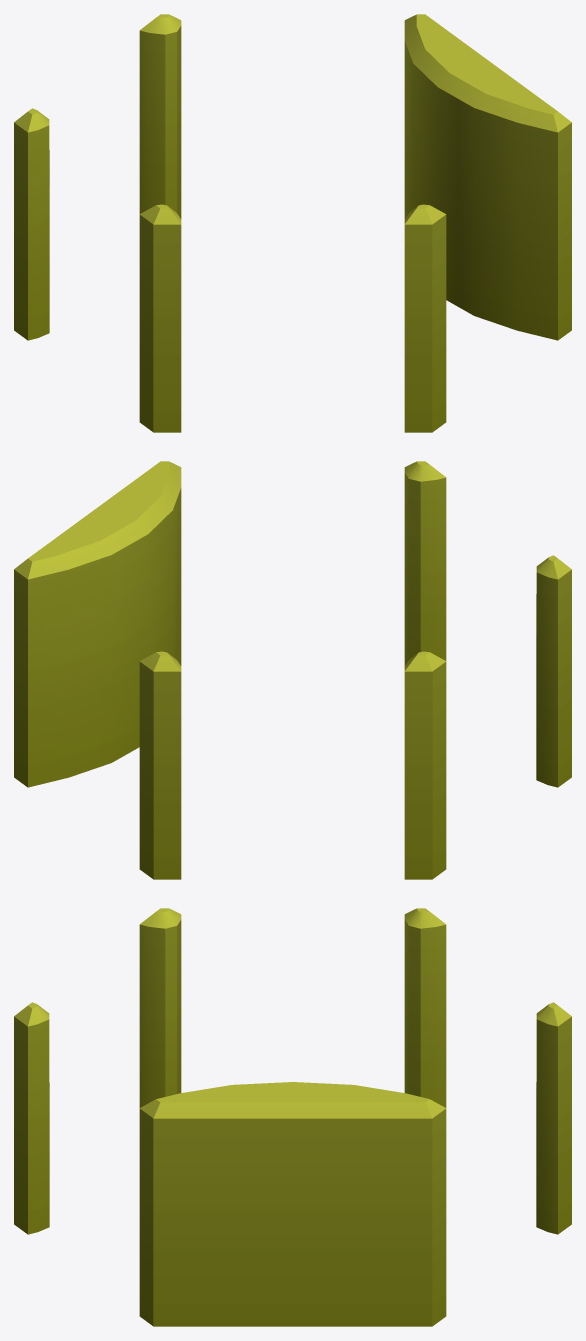
Rendered from kaykit-medieval-hexagon-pack-hex-river-k-waterless.glb.
3 views of the same model, one above another, from view 1: azimuth 30°, elevation 25°; view 2: azimuth 150°, elevation 25°; view 3: azimuth 270°, elevation 25° (orthographic).
Visible parts, largest first — view 1: hex_river_K_waterless; view 2: hex_river_K_waterless; view 3: hex_river_K_waterless.
Part boxes in pixels (<box>): hex_river_K_waterless: <box>14,14,571,432</box>; hex_river_K_waterless: <box>14,461,571,879</box>; hex_river_K_waterless: <box>14,908,571,1326</box>.
Size of the model in its own units: 2 by 1 by 2.31.
1 material, 1 textured.
